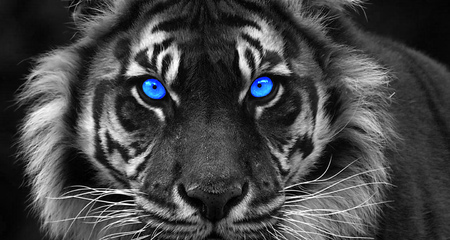Tigrew: (36, 7, 404, 235)
